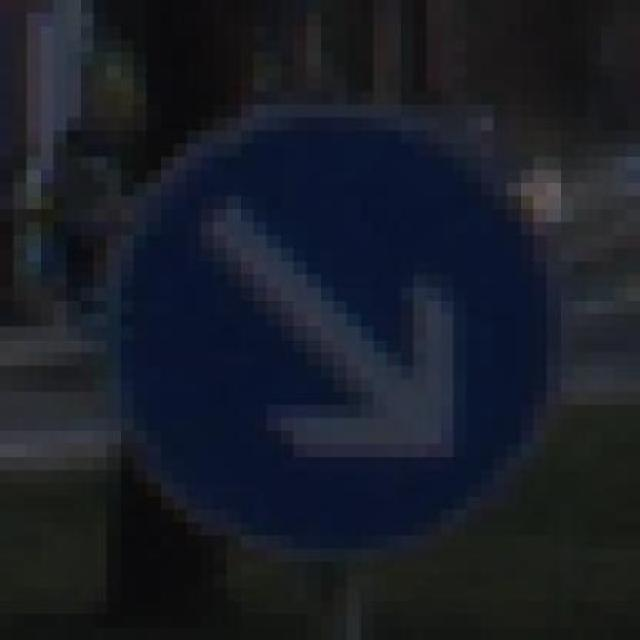Keep-Right: (93, 91, 587, 574)
